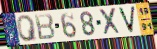6: (60, 11, 78, 39)
8: (79, 11, 97, 37)
B: (33, 13, 56, 41)
Q: (15, 14, 39, 43)
V: (117, 6, 137, 35)
X: (98, 7, 123, 37)
